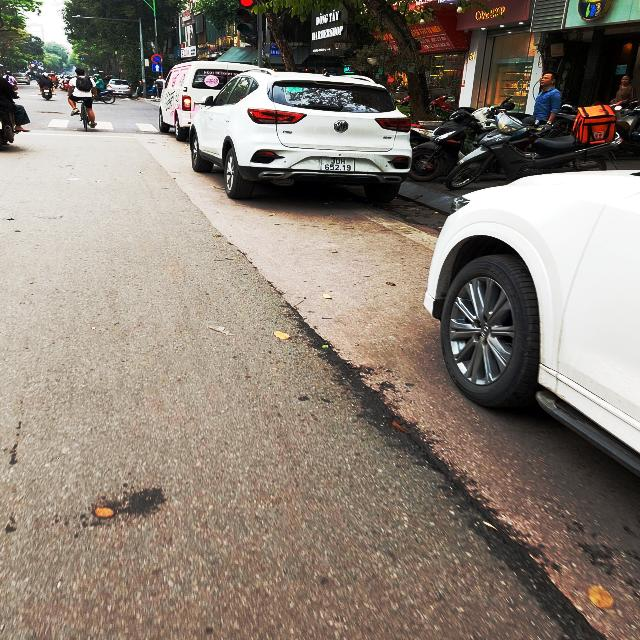license_plate: (320, 158, 358, 175)
